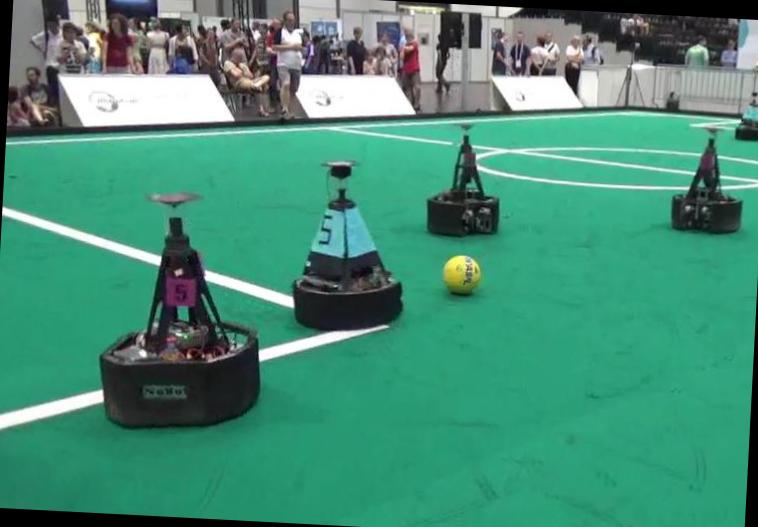ball: (442, 254, 481, 294)
robot: (100, 193, 260, 426), (293, 159, 403, 329), (427, 133, 499, 234), (671, 137, 742, 232), (735, 91, 758, 139)
